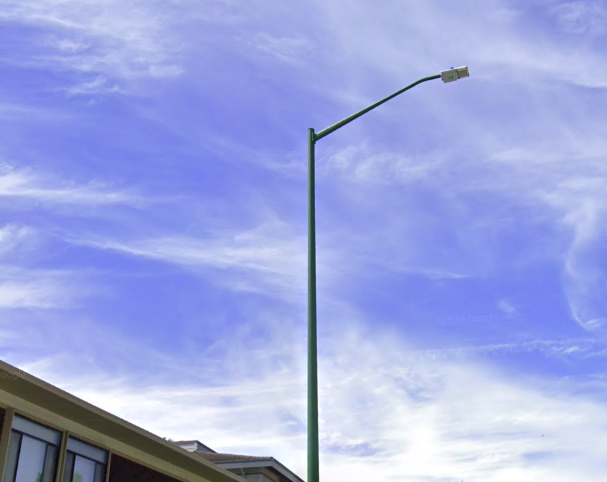pole: (296, 60, 475, 434)
